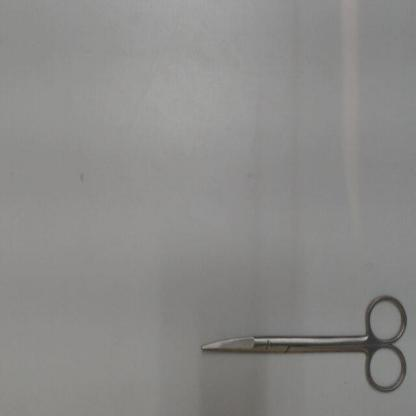Curved Mayo Scissors: (195, 291, 410, 400)
